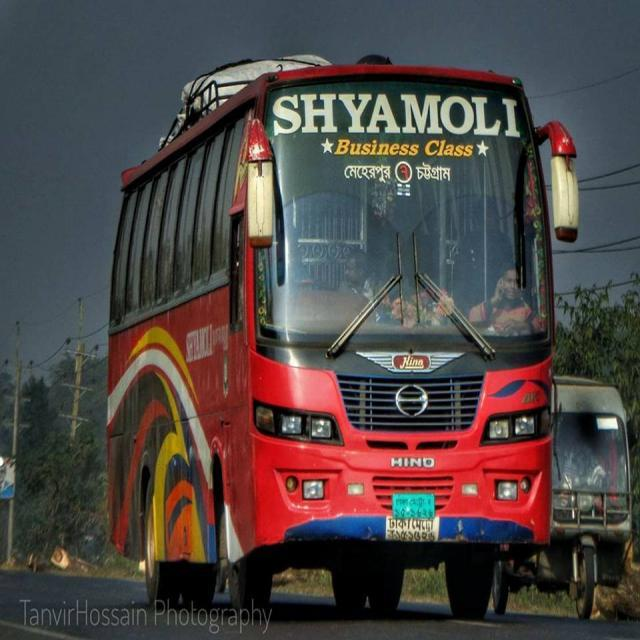bus: (106, 53, 580, 623)
